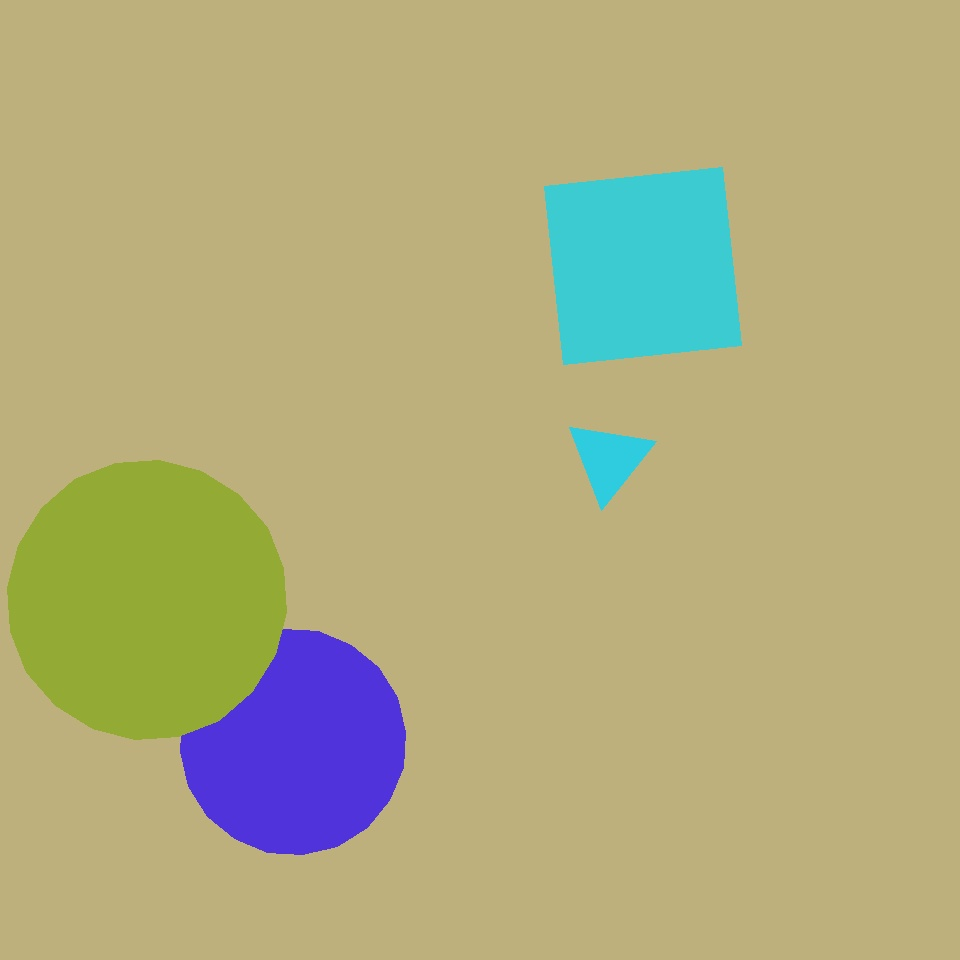circle: (526, 157, 845, 442), (566, 419, 652, 502)
square: (544, 168, 742, 364), (679, 612, 804, 736)
triangle: (8, 460, 286, 740), (180, 60, 454, 335), (181, 630, 406, 854)
